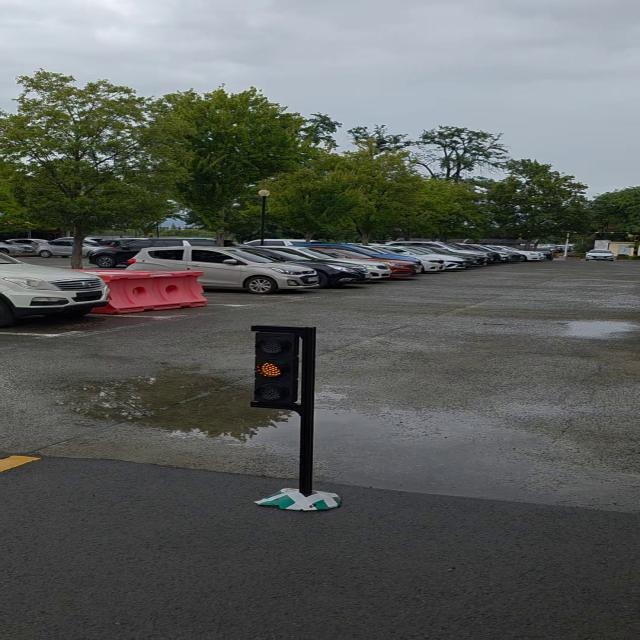yellow: (253, 329, 306, 410)
